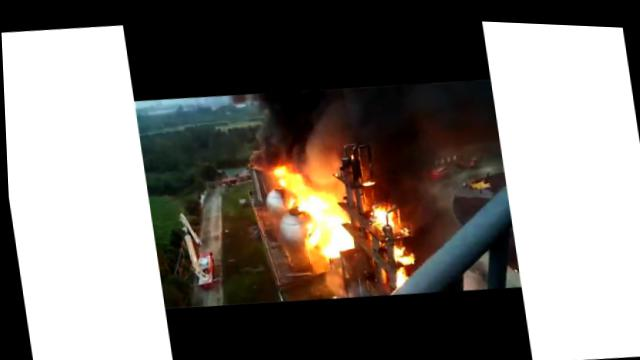fire: (303, 219, 354, 255), (285, 181, 336, 209), (306, 201, 351, 225), (273, 160, 293, 188), (290, 168, 305, 188), (391, 264, 405, 284), (392, 249, 413, 262), (372, 201, 384, 222), (383, 207, 394, 223), (389, 240, 401, 254), (361, 175, 375, 183)
